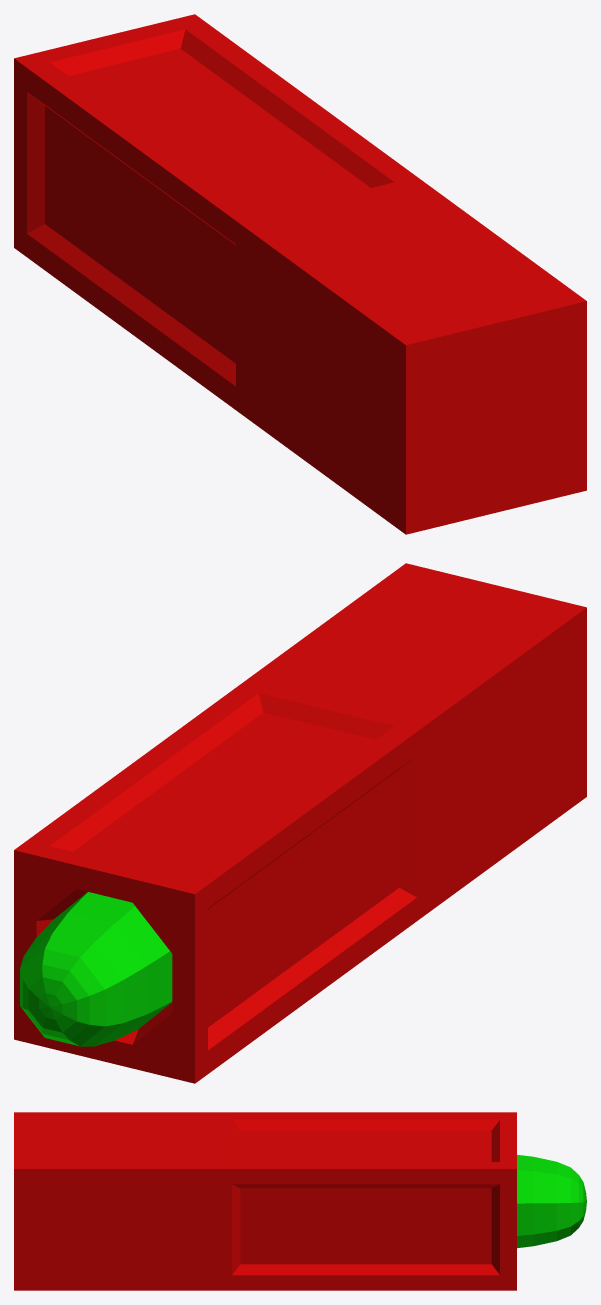
Rendered from torpedo_launcher-small.glb.
3 renders of one model, top to bottom at view 1: azimuth 30°, elevation 25°; view 2: azimuth 150°, elevation 25°; view 3: azimuth 270°, elevation 25°, orthographic. The views are drawn at different scales.
Parts seen in each view (by area): view 1: WeaponModel; view 2: WeaponModel; view 3: WeaponModel.
Part boxes in pixels (<box>): WeaponModel: <box>14,14,586,534</box>; WeaponModel: <box>14,563,586,1083</box>; WeaponModel: <box>14,1112,586,1290</box>.
Bounding box in the file's own units: 0.8 × 0.8 × 3.42.
